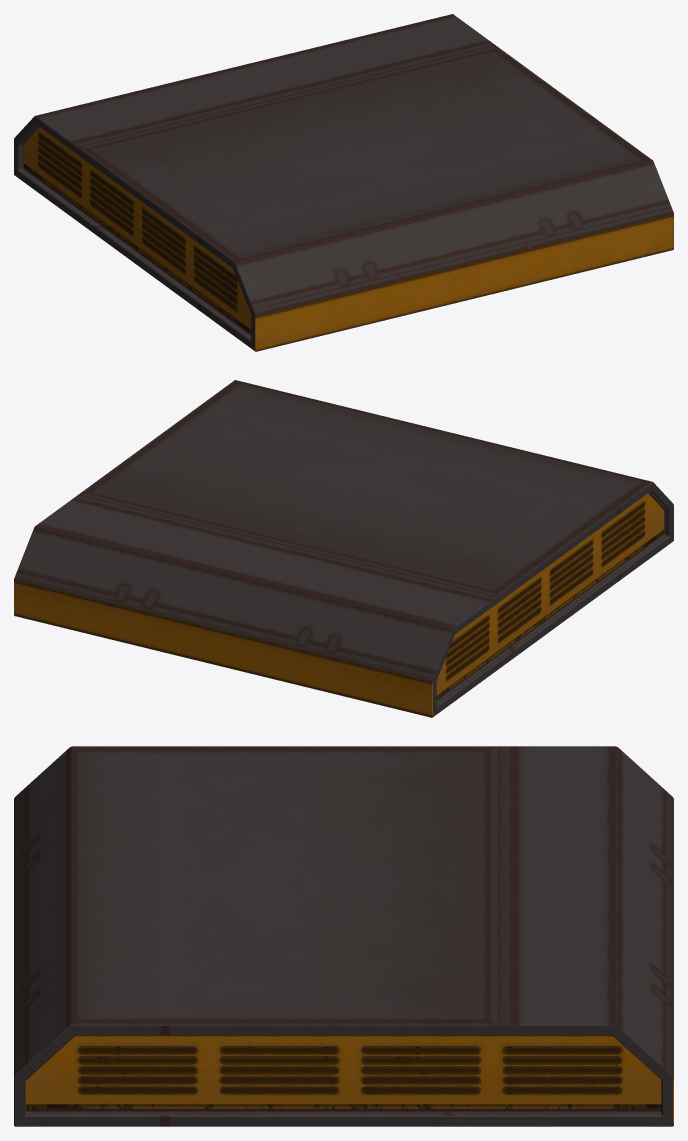
The model's file is Platform-02.fbx.
The picture shows the model from 3 angles, top to bottom: view 1: azimuth 30°, elevation 25°; view 2: azimuth 150°, elevation 25°; view 3: azimuth 270°, elevation 25°; orthographic projection. The views are drawn at different scales.
Parts seen in each view (by area): view 1: Platform_02_LOD0; view 2: Platform_02_LOD0; view 3: Platform_02_LOD0.
Part boxes in pixels (<box>): Platform_02_LOD0: <box>14,14,673,351</box>; Platform_02_LOD0: <box>14,380,673,717</box>; Platform_02_LOD0: <box>14,746,673,1126</box>.
Size of what is drawn, in the model's own units: 6.11 by 6.11 by 1.04.
